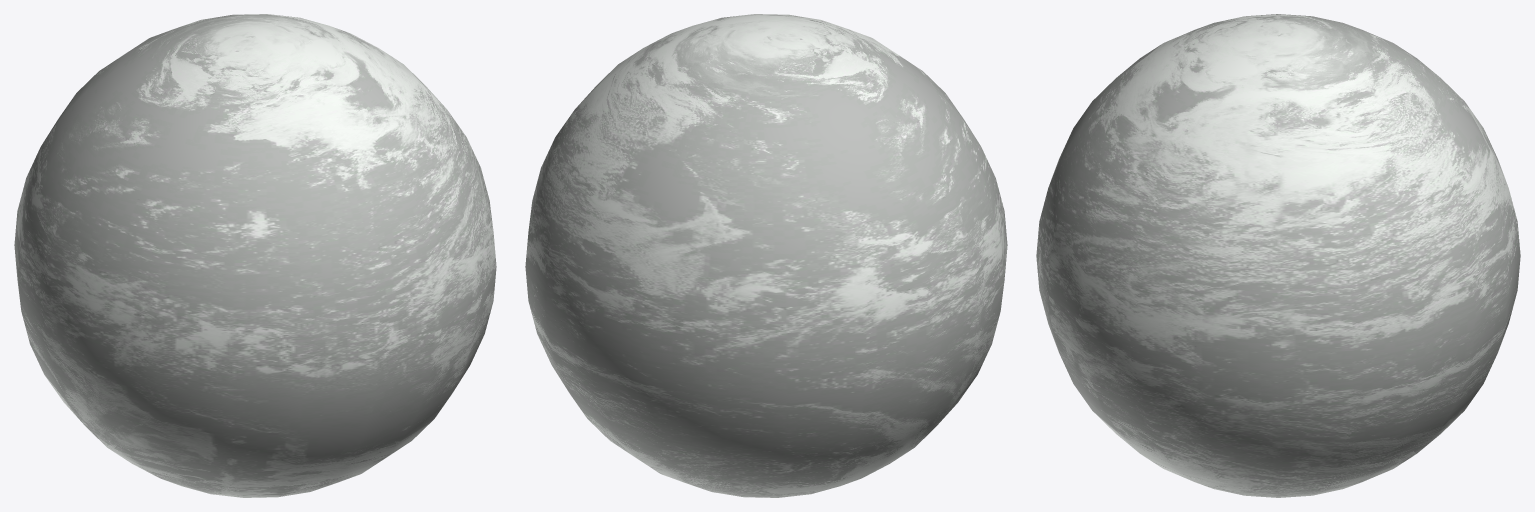
The model's file is Earth.obj.
3 views of the same model, side by side, from view 1: azimuth 30°, elevation 25°; view 2: azimuth 150°, elevation 25°; view 3: azimuth 270°, elevation 25° (orthographic).
Visible parts, largest first — view 1: atmosphere; view 2: atmosphere; view 3: atmosphere.
Part boxes in pixels (<box>): atmosphere: <box>14,14,496,497</box>; atmosphere: <box>525,14,1007,497</box>; atmosphere: <box>1036,14,1520,497</box>.
Bounding box in the file's own units: 0.969 × 0.969 × 0.969.
Materials: 2 (2 with a texture image).
